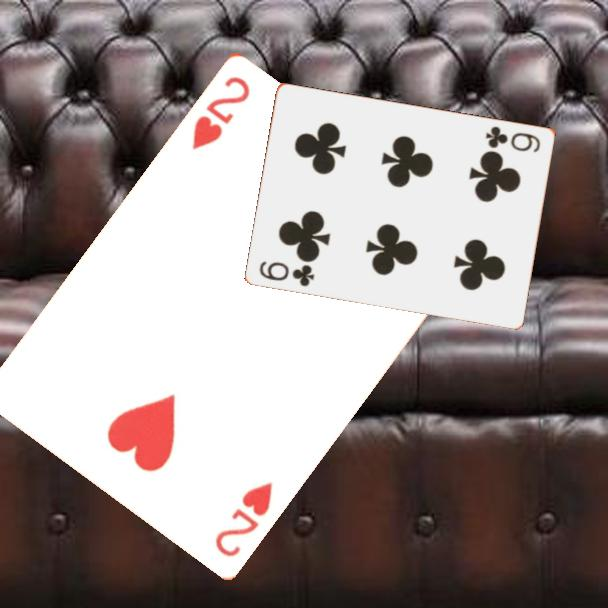c06: (482, 122, 543, 155), (256, 258, 318, 289)
h02: (211, 477, 276, 559), (188, 72, 253, 153)
